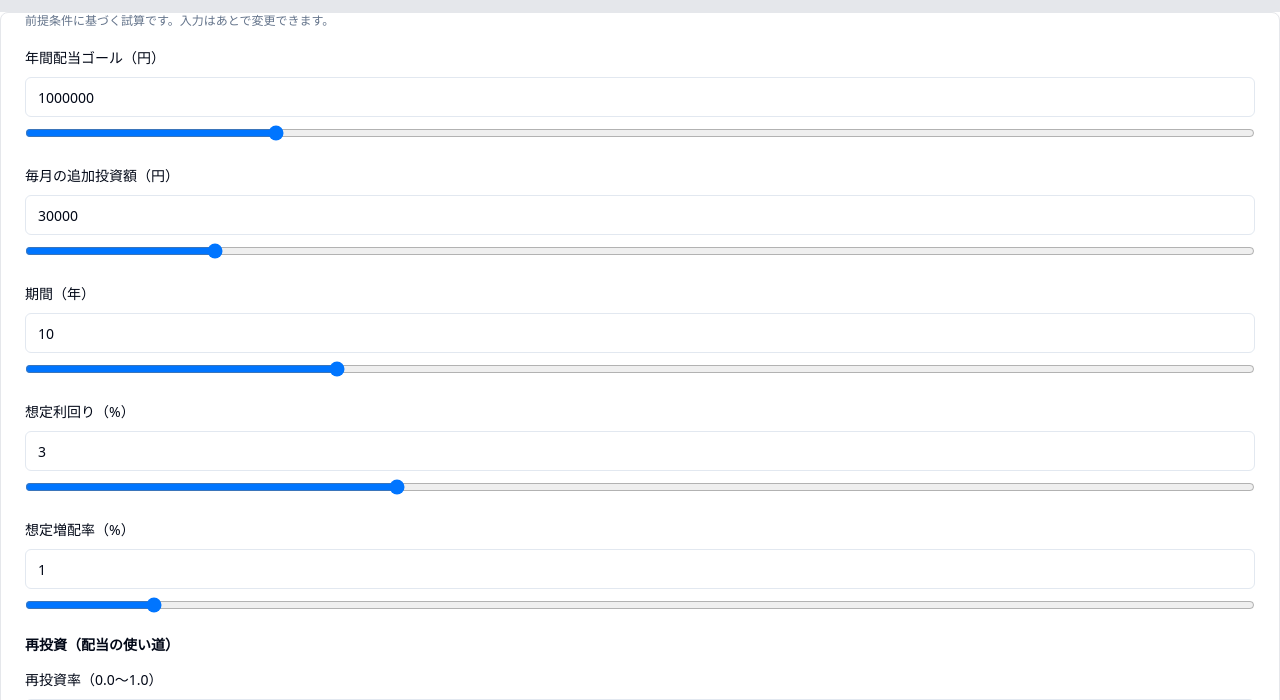
Test: RoadmapForm › 範囲外入力はクランプして保持する
Replace the text in the number field labelled "毎月の追加投資額（円）" with "9999999". click: (640, 215)
box: [25,195,1255,235]
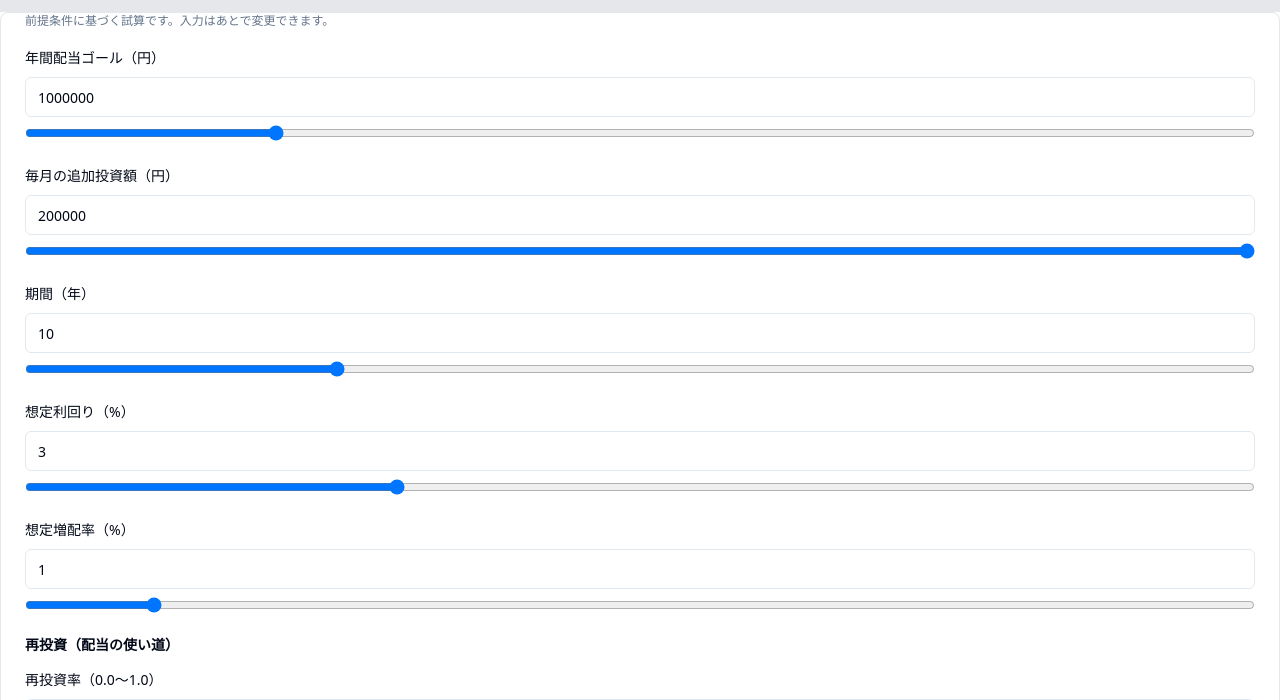
Check: the number field labelled "毎月の追加投資額（円）" holds "200000", box [25,195,1255,235]
